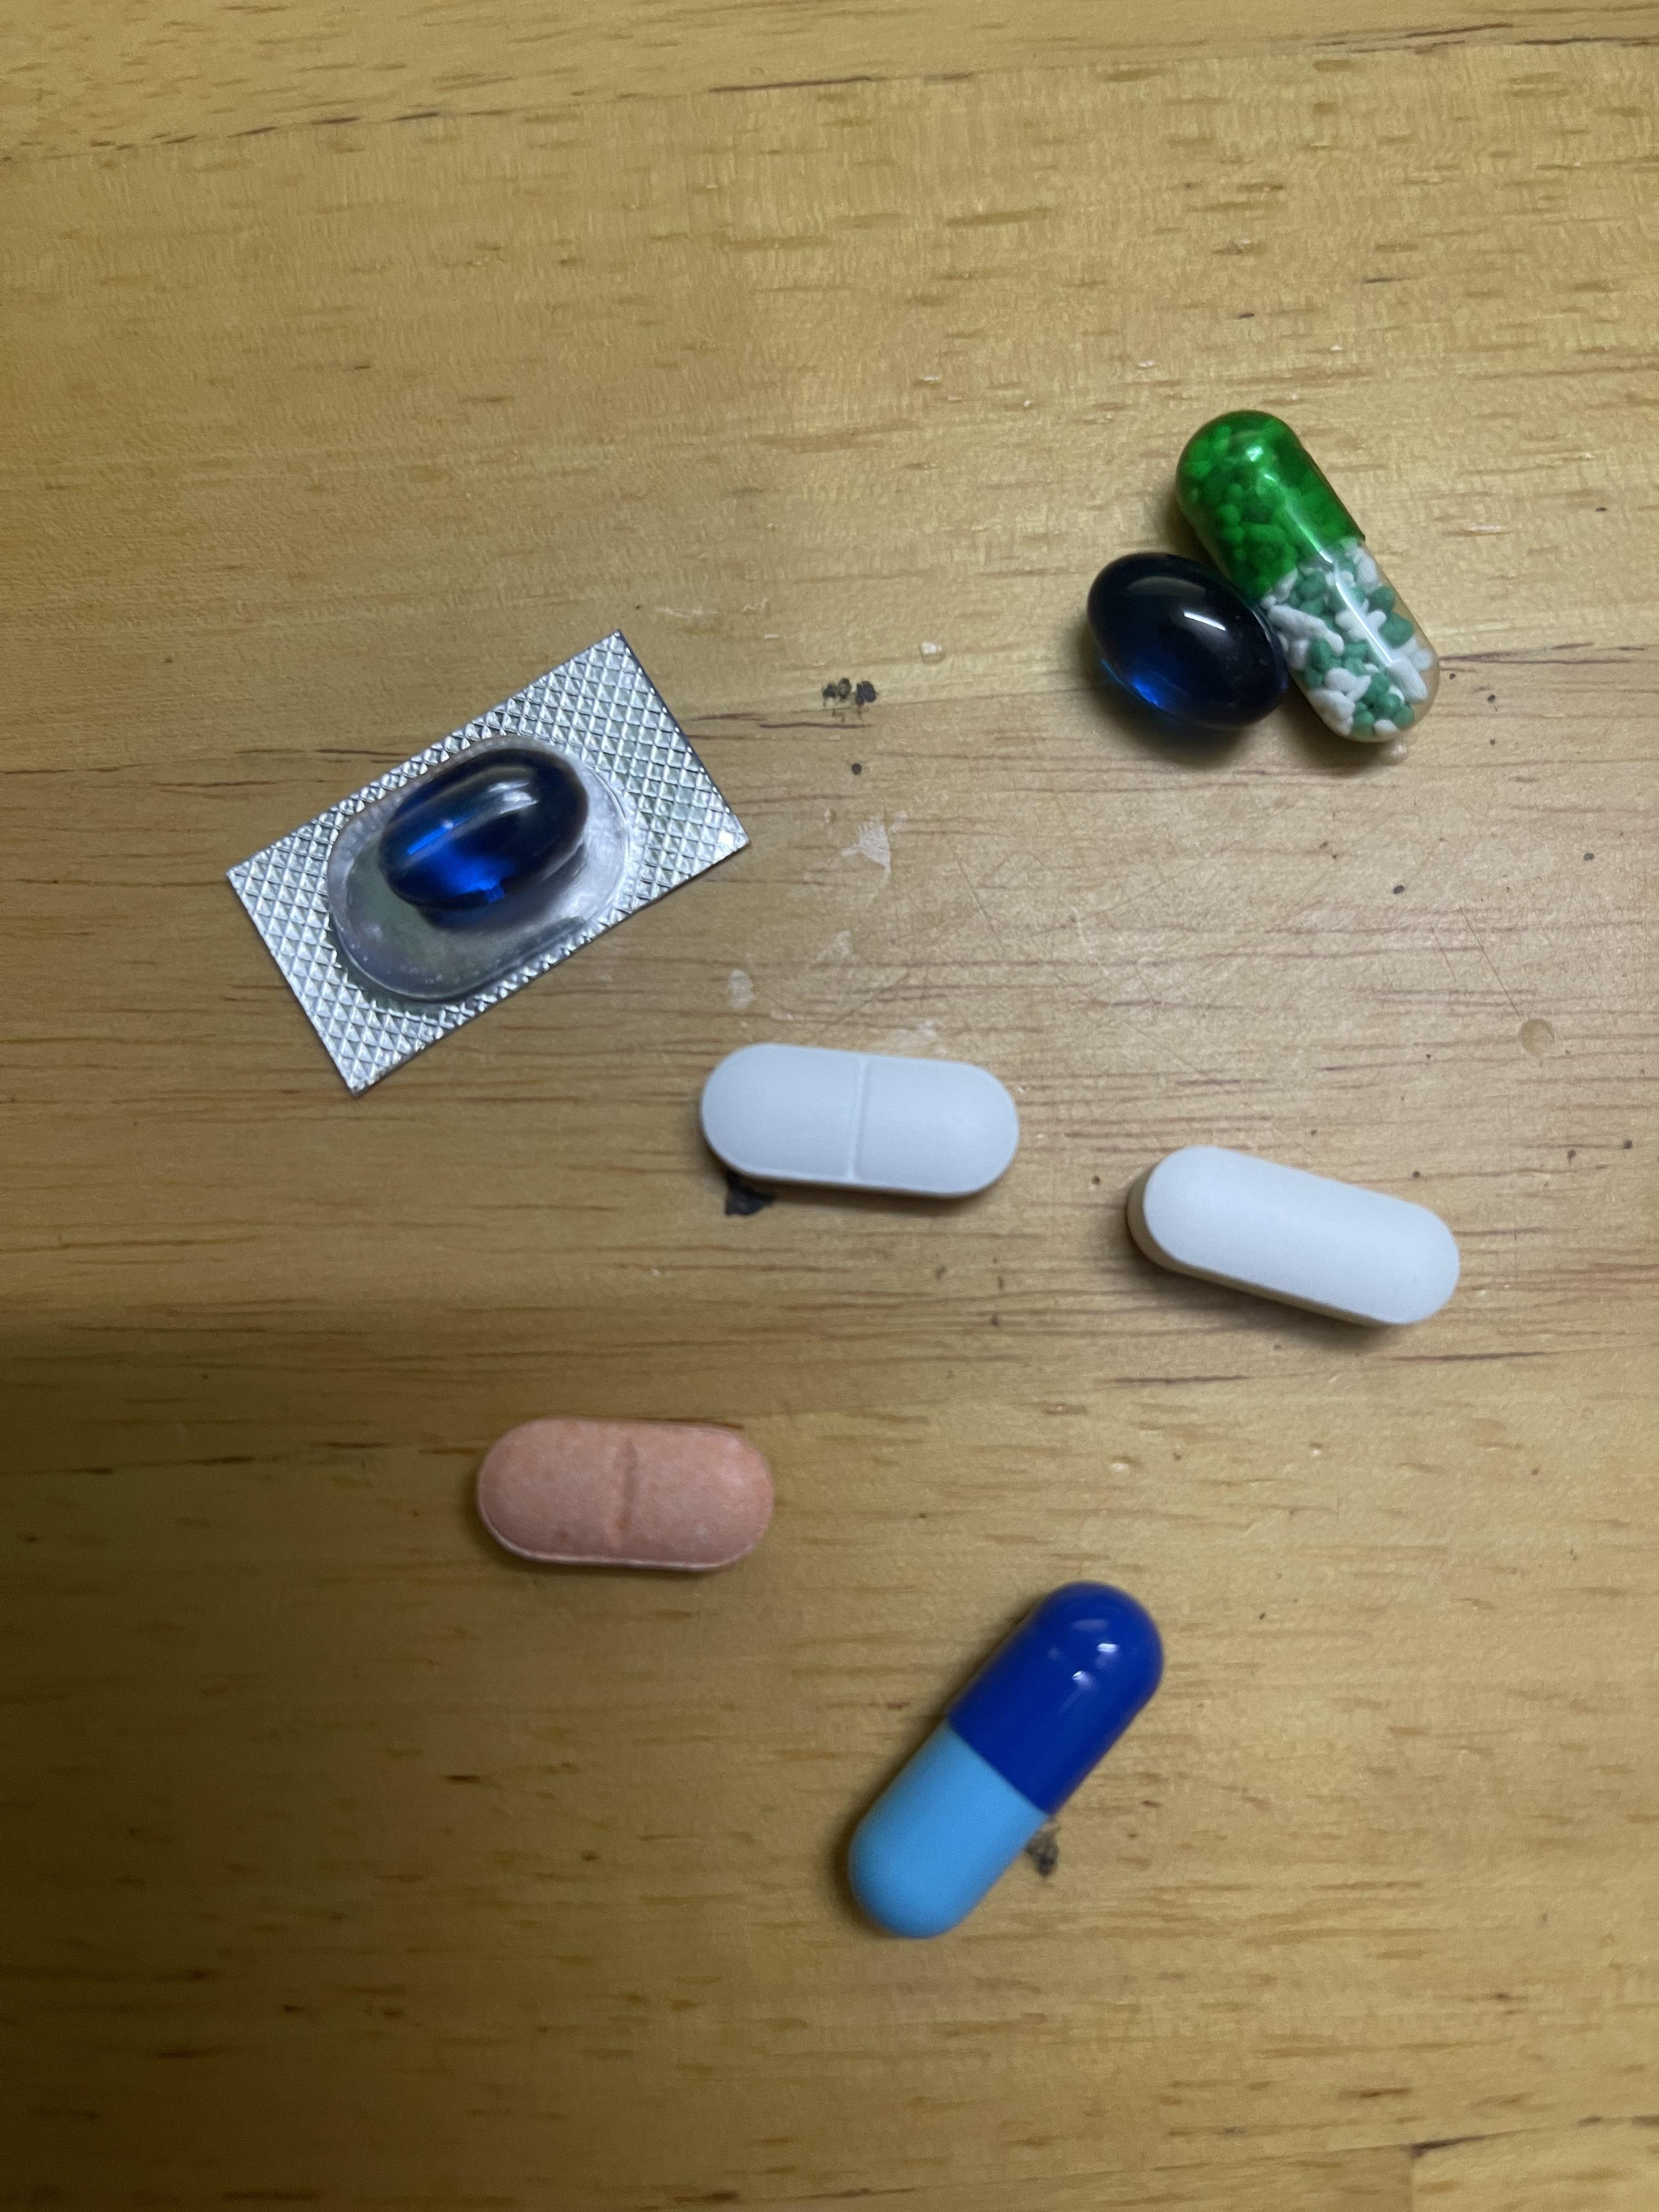Lincomyxin_500mg: (1086, 552, 1291, 732), (375, 751, 584, 916)
Loratadine_10mg: (474, 1413, 774, 1571)
Paracetamol_350mg: (704, 1047, 1012, 1198)
Paracetamol_500mg: (1138, 1136, 1457, 1331)
Paracetamol_650mg: (1182, 416, 1436, 738)
pill: (843, 1575, 1152, 1951)
